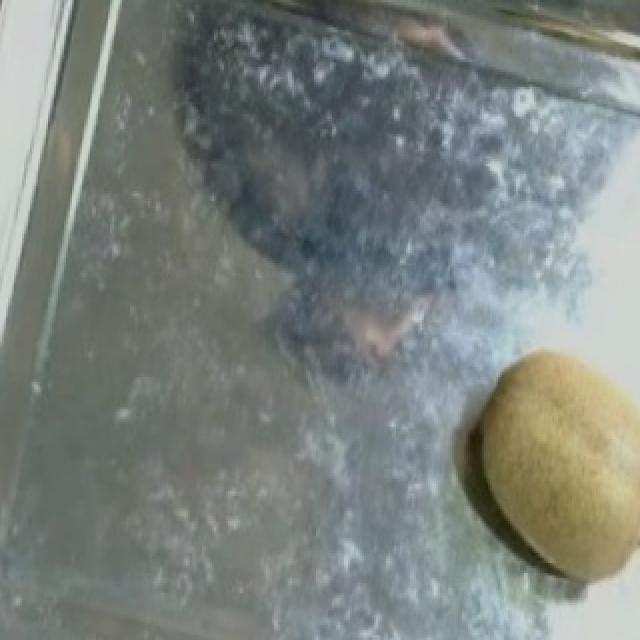Fruit: (450, 322, 640, 603)
